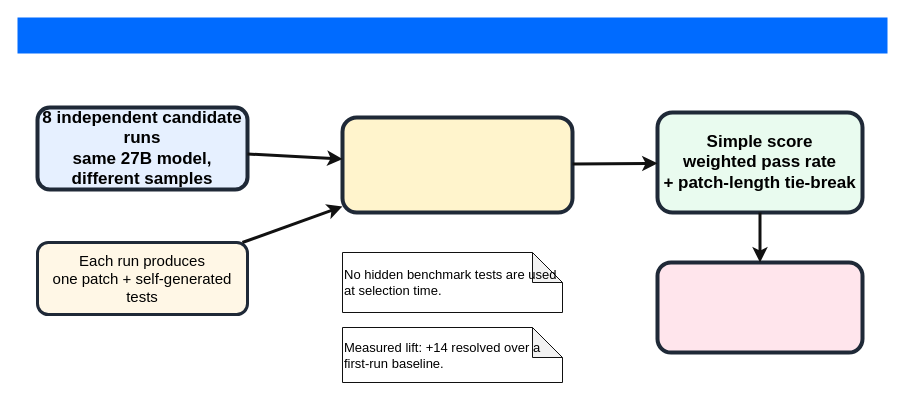
Some shapes in this 904 by 400 pixel diagram are drawn without their labels. Here are the shapes that lost their labels. From the top down, the centre of each, then its label:
At pixel 452 35: "Key idea: use each agent run's tests to judge the other runs' patches".
At pixel 457 164: "Cross-application matrix tests from run j applied to patch from run i".
At pixel 759 307: "Final selected patch 376 / 500 internal 374 / 500 official".
